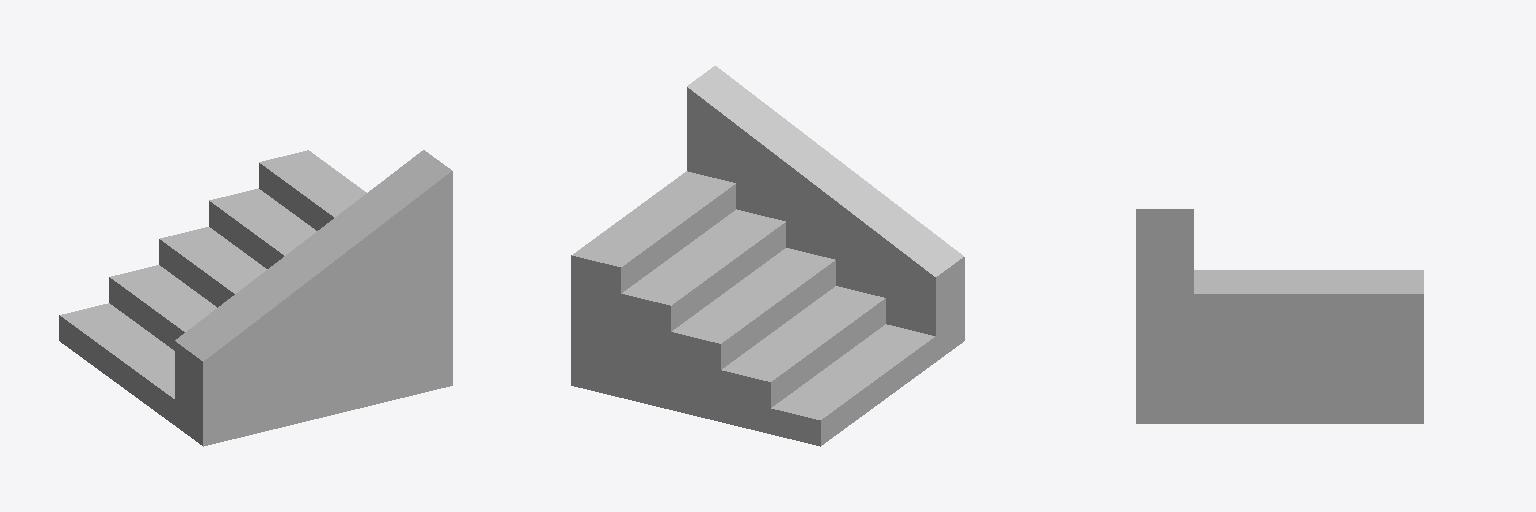
Rendered from Ledge_Stairs__SML_R.obj.
The picture shows the model from 3 angles: view 1: azimuth 30°, elevation 25°; view 2: azimuth 150°, elevation 25°; view 3: azimuth 270°, elevation 25°; orthographic projection.
Visible parts, largest first — view 1: Ledge_Stairs__SML_R; view 2: Ledge_Stairs__SML_R; view 3: Ledge_Stairs__SML_R.
Boxes of the visible parts, <box> form: Ledge_Stairs__SML_R: <box>59,150,452,446</box>; Ledge_Stairs__SML_R: <box>571,66,964,446</box>; Ledge_Stairs__SML_R: <box>1136,209,1423,423</box>.
Bounding box in the file's own units: 10 × 8.25 × 10.